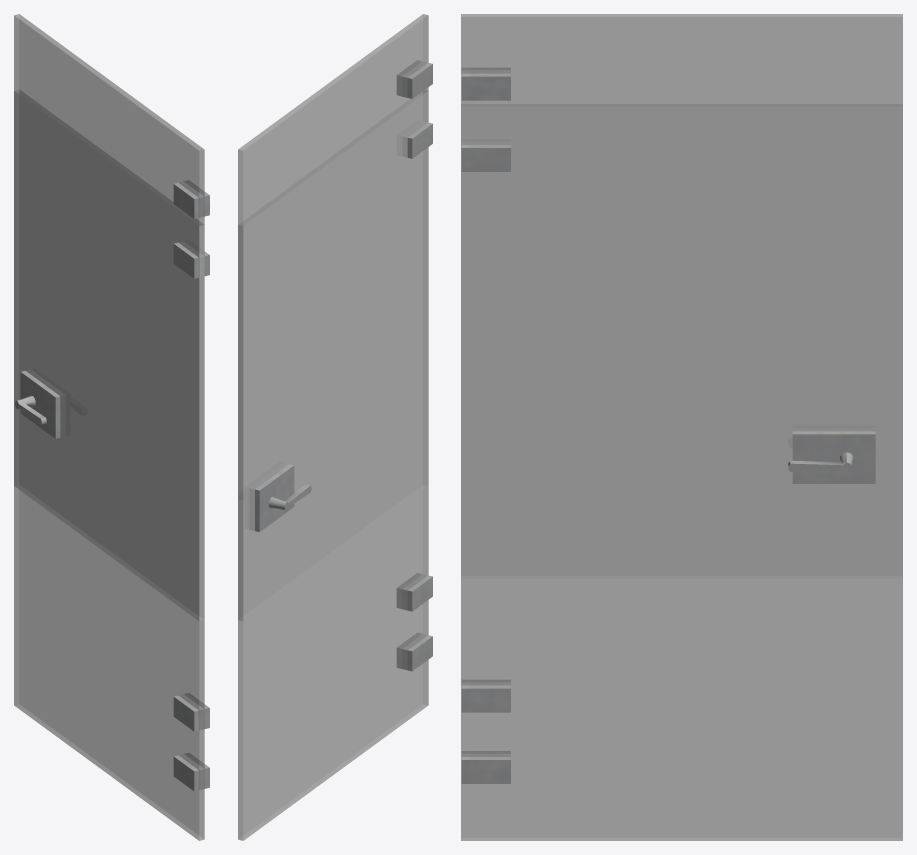
Rendered from door.FBX.
The picture shows the model from 3 angles, left to right: view 1: azimuth 30°, elevation 25°; view 2: azimuth 150°, elevation 25°; view 3: azimuth 270°, elevation 25°; orthographic projection. The views are drawn at different scales.
Parts seen in each view (by area): view 1: door02; view 2: door02; view 3: door02.
Part boxes in pixels (x1,y1,x2,y2): door02: (14, 14, 209, 840); door02: (238, 14, 432, 840); door02: (461, 14, 902, 840).
Size of the model in its own units: 0.1499 by 2.15 by 1.05.
